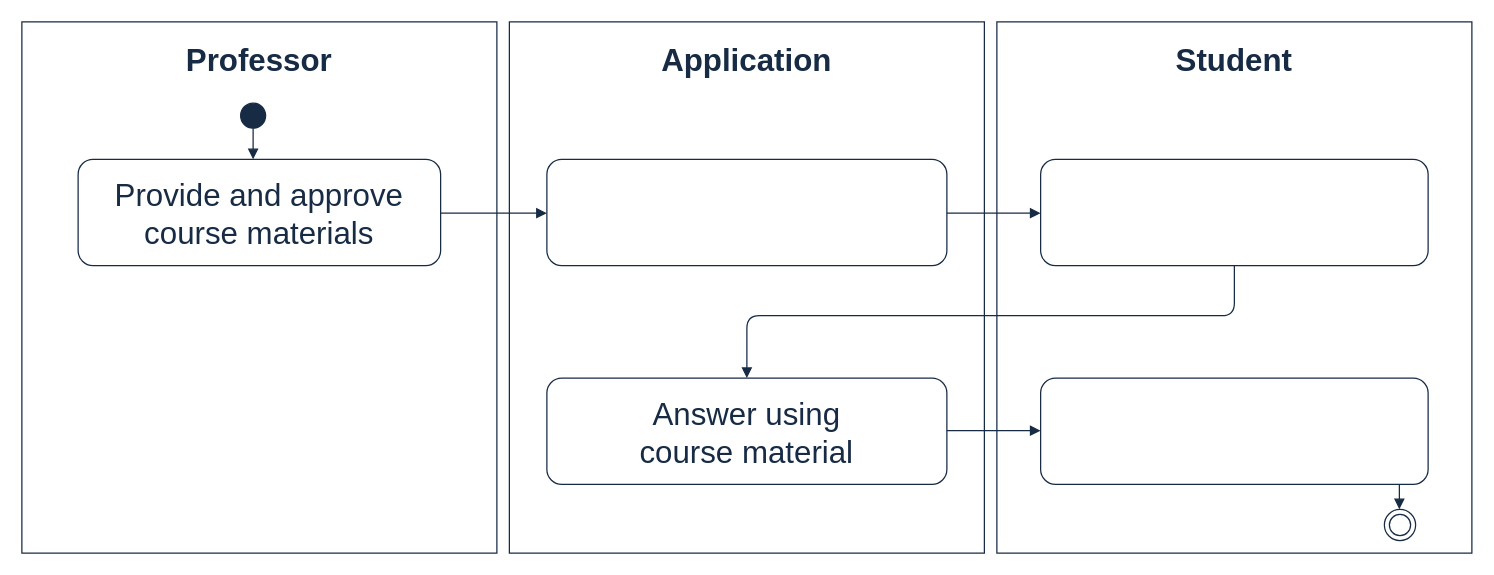
This 1494x575 diagram has some shape labels left out. Here are the shapes that lost their labels. From the top down, the centre of each, then its label:
point (746, 212): Publish the reviewed course assistant
point (1233, 212): Ask a course question
point (1233, 430): Read the answer or submit an attempt
